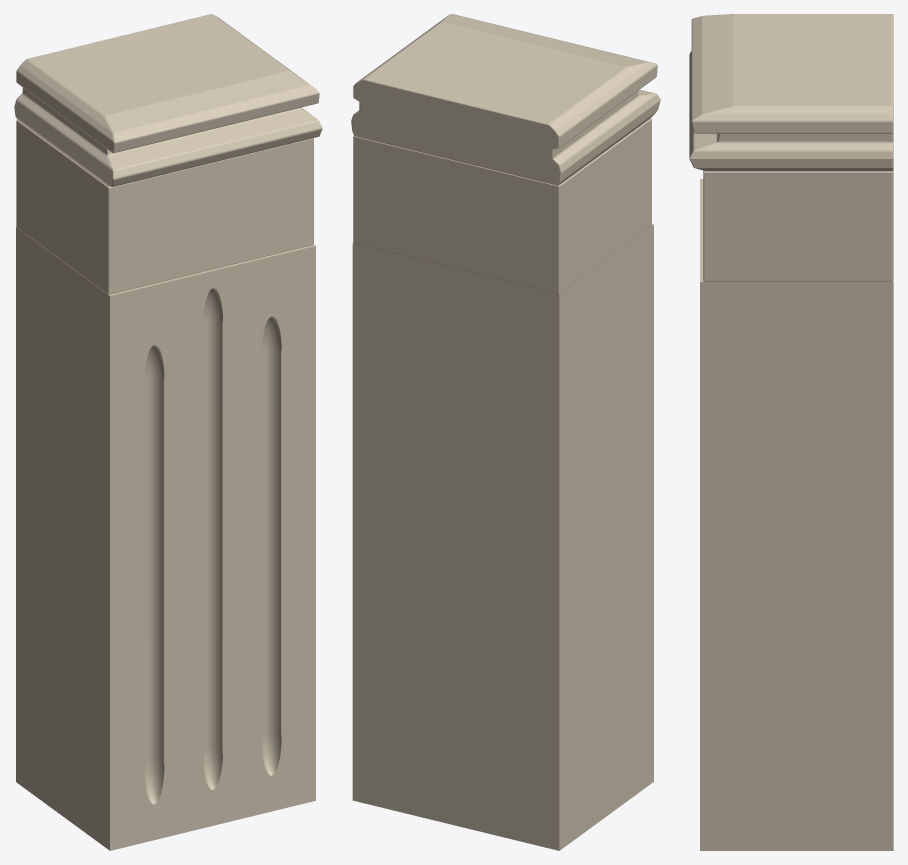
Rendered from zoccolo-deco-rigato.glb.
3 views of the same model, side by side, from view 1: azimuth 30°, elevation 25°; view 2: azimuth 150°, elevation 25°; view 3: azimuth 270°, elevation 25° (orthographic). The views are drawn at different scales.
Visible parts, largest first — view 1: 08_Derecho_Plinto_acanalado, 10_Derecho_Collarin_doble_sobre_base, 09_Derecho_Dado_liso_sobre_plinto; view 2: 08_Derecho_Plinto_acanalado, 10_Derecho_Collarin_doble_sobre_base, 09_Derecho_Dado_liso_sobre_plinto; view 3: 08_Derecho_Plinto_acanalado, 10_Derecho_Collarin_doble_sobre_base, 09_Derecho_Dado_liso_sobre_plinto.
Part boxes in pixels (bbox=[...]): 08_Derecho_Plinto_acanalado: bbox=[16, 227, 315, 850]; 10_Derecho_Collarin_doble_sobre_base: bbox=[14, 14, 322, 186]; 09_Derecho_Dado_liso_sobre_plinto: bbox=[16, 120, 313, 294]; 08_Derecho_Plinto_acanalado: bbox=[352, 224, 653, 850]; 10_Derecho_Collarin_doble_sobre_base: bbox=[351, 14, 660, 185]; 09_Derecho_Dado_liso_sobre_plinto: bbox=[353, 118, 651, 293]; 08_Derecho_Plinto_acanalado: bbox=[700, 179, 893, 850]; 10_Derecho_Collarin_doble_sobre_base: bbox=[689, 14, 893, 171]; 09_Derecho_Dado_liso_sobre_plinto: bbox=[703, 170, 893, 281].
Size of the model in its own units: 102 by 334 by 83.55.
